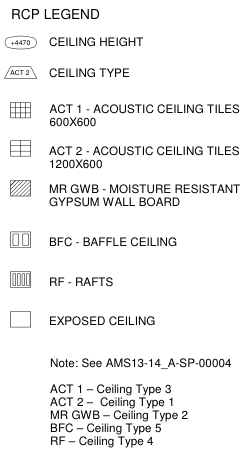hatch: (2, 33, 38, 52), (2, 64, 40, 81), (7, 309, 34, 330), (8, 101, 35, 121), (7, 229, 33, 249), (9, 270, 34, 290), (9, 178, 32, 199), (9, 139, 34, 158)
label: (43, 180, 240, 210), (44, 99, 240, 129), (47, 140, 239, 170), (47, 233, 180, 250), (44, 311, 160, 330), (45, 35, 146, 49), (47, 64, 134, 80), (45, 275, 119, 290)
